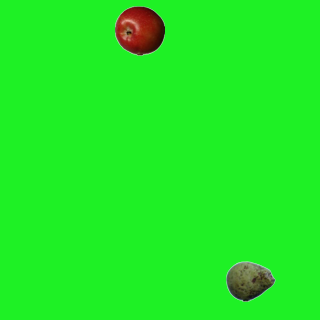Apple Braeburn: (114, 5, 164, 55)
Pear Stone: (225, 256, 275, 306)
